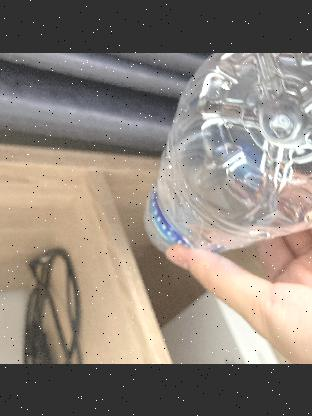Plastic Bottle: (136, 52, 312, 268)
